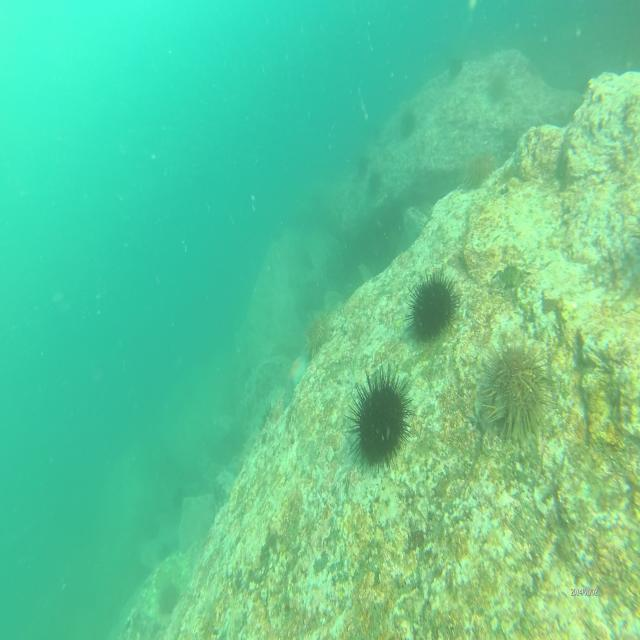echinus: (346, 358, 416, 474), (480, 340, 546, 444), (405, 262, 461, 351), (306, 306, 335, 360), (466, 154, 496, 192), (156, 577, 183, 618), (485, 77, 509, 103), (400, 107, 417, 141), (448, 49, 466, 81), (355, 149, 371, 179), (369, 171, 384, 197)
starfish: (284, 354, 308, 413)
